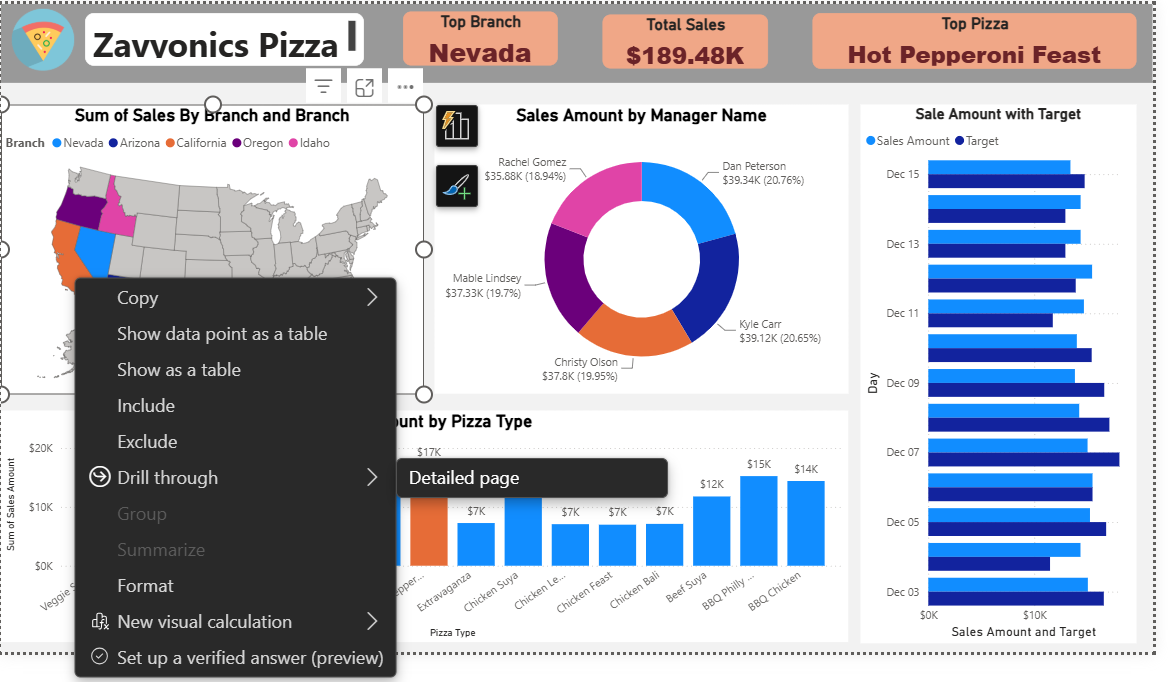

Layout of this report page (visuals, bound fields, positions):
{"tool":"powerbi","page":{"name":"Main Dashboard","canvas":[1280,720],"ordinal":0},"visuals":[{"type":"shape","box":[0,0,1279.4,87.3],"z":0},{"type":"shape","box":[0,78.6,1280,16.1],"z":1000},{"type":"textbox","box":[93.7,9.5,309.9,58.7],"z":2000},{"type":"image","box":[0,0,93.2,79],"z":3000},{"type":"shapeMap","title":"Sum of Sales By Branch and Branch","fields":{"Category":["Branch Data.Branch"],"Series":["Branch Data.Branch"],"Value":["Sum(Sales.Sales Amount)"]},"box":[0,111.8,469.4,321.3],"z":4000},{"type":"donutChart","title":"Sales Amount by Manager Name","fields":{"Category":["Branch Data.Manager Name"],"Y":["Sum(Sales.Sales Amount)"]},"box":[482,111.8,459.9,321.3],"z":5000},{"type":"columnChart","title":"Sales Amount by Pizza Type","fields":{"Category":["Sales.Pizza Type"],"Y":["Sum(Sales.Sales Amount)"]},"box":[0,452.4,941.3,257.1],"z":6000},{"type":"clusteredBarChart","title":"Sale Amount with Target","fields":{"Category":["Daily Target.Day"],"Y":["Sum(Sales.Sales Amount)","Sum(Daily Target.Target)"]},"box":[955.6,111.1,306.3,598.4],"z":7000},{"type":"cardVisual","title":"Top Branch","fields":{"Data":["Min(Sales.Branch)"]},"box":[447,9,172,60],"z":8000},{"type":"cardVisual","title":"Total Sales","fields":{"Data":["Sum(Sales.Sales Amount)"]},"box":[668.3,11.1,184.1,60.3],"z":9000},{"type":"cardVisual","title":"Top Pizza","fields":{"Data":["Min(Sales.Pizza Type)"]},"box":[901.6,9.5,360.3,61.9],"z":10000}]}

Visuals, with their boxes on the page's 1280x720 design canvas (x1, y1, x2, y2). These are canvas units, not pixel positions in the 1168x682 screenshot, which may show the page scaled, cropped or inside an application window:
shape: rect(0, 0, 1279, 87)
shape: rect(0, 79, 1280, 95)
textbox: rect(94, 10, 404, 68)
image: rect(0, 0, 93, 79)
"Sum of Sales By Branch and Branch" shapeMap: rect(0, 112, 469, 433)
"Sales Amount by Manager Name" donutChart: rect(482, 112, 942, 433)
"Sales Amount by Pizza Type" columnChart: rect(0, 452, 941, 710)
"Sale Amount with Target" clusteredBarChart: rect(956, 111, 1262, 710)
"Top Branch" cardVisual: rect(447, 9, 619, 69)
"Total Sales" cardVisual: rect(668, 11, 852, 71)
"Top Pizza" cardVisual: rect(902, 10, 1262, 71)
